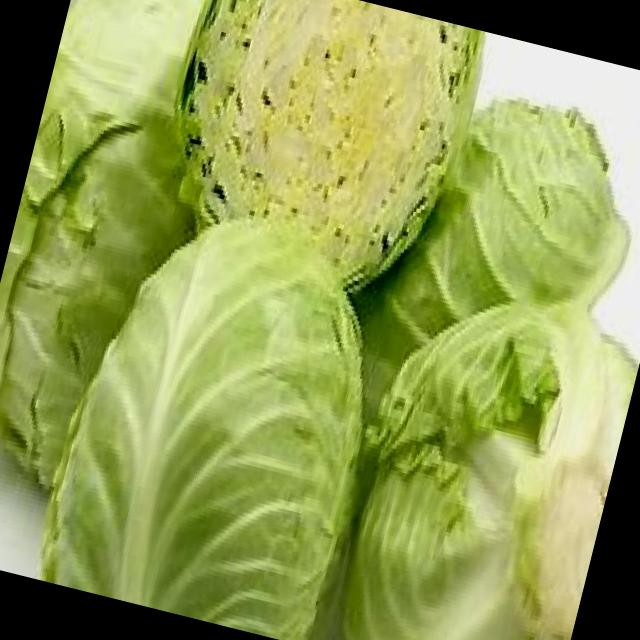cabbage: (29, 197, 406, 640), (324, 278, 640, 640), (139, 0, 484, 297)
